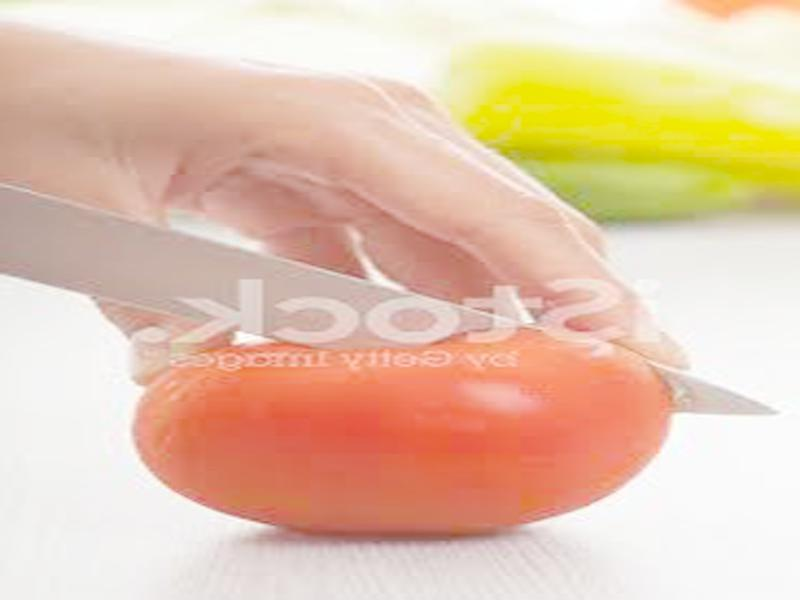Tomato: (126, 329, 672, 539)
